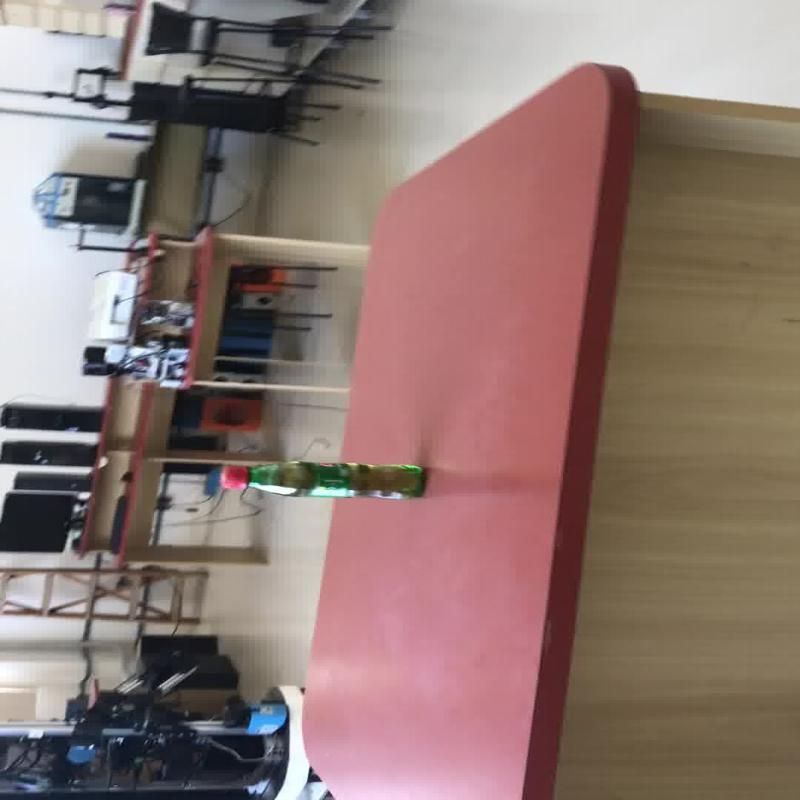guarana: (296, 60, 640, 798), (221, 459, 425, 499)
